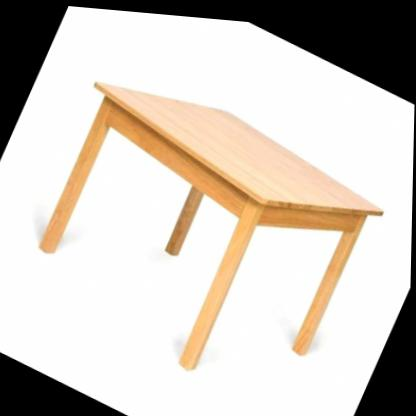Table: (1, 35, 409, 416)
